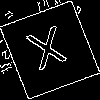X: (25, 25, 73, 81)
